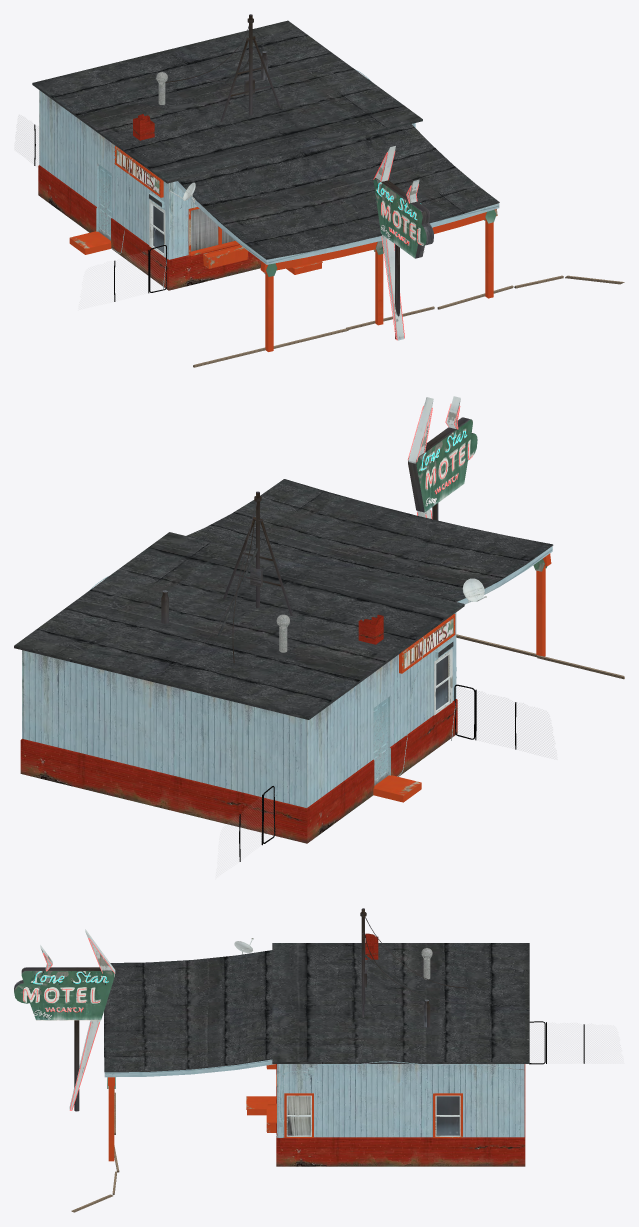
File: bld_motel.glb
The picture shows the model from 3 angles, top to bottom: view 1: azimuth 30°, elevation 25°; view 2: azimuth 150°, elevation 25°; view 3: azimuth 270°, elevation 25°; orthographic projection. The views are drawn at different scales.
Parts seen in each view (by area): view 1: house_house_0, wood_wood_0, red neon_red light_0; view 2: house_house_0, metal_metall_0, grid_rail_0, red neon_red light_0, wood_wood_0; view 3: house_house_0, red neon_red light_0.
Part boxes in pixels (<box>): house_house_0: <box>32,14,499,351</box>; wood_wood_0: <box>193,275,624,367</box>; red neon_red light_0: <box>373,151,421,340</box>; house_house_0: <box>14,396,553,843</box>; metal_metall_0: <box>239,684,516,861</box>; grid_rail_0: <box>216,687,554,875</box>; red neon_red light_0: <box>407,403,472,519</box>; wood_wood_0: <box>456,634,624,679</box>; house_house_0: <box>14,908,529,1166</box>; red neon_red light_0: <box>23,938,114,1110</box>.
Size of the model in its own units: 14126 by 6572 by 17877.
Materials: 7 (3 with a texture image).
